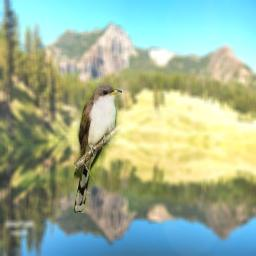Cuckoo: (74, 83, 122, 213)
